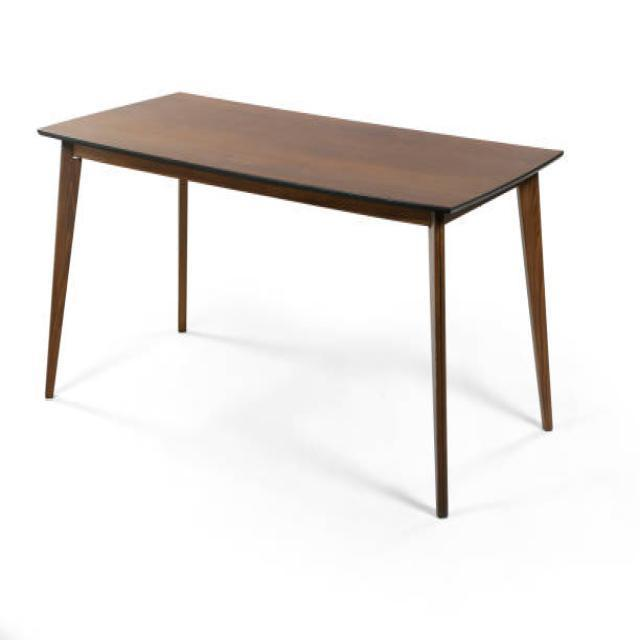table: (36, 88, 564, 518)
